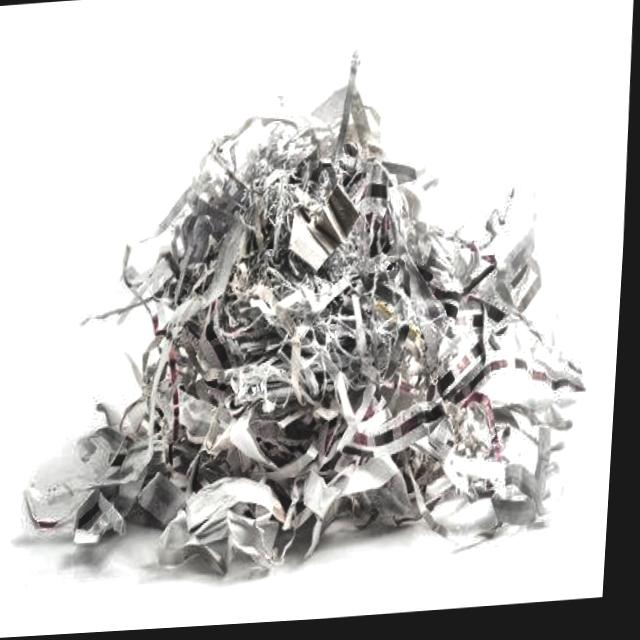Paper: (34, 50, 591, 581)
